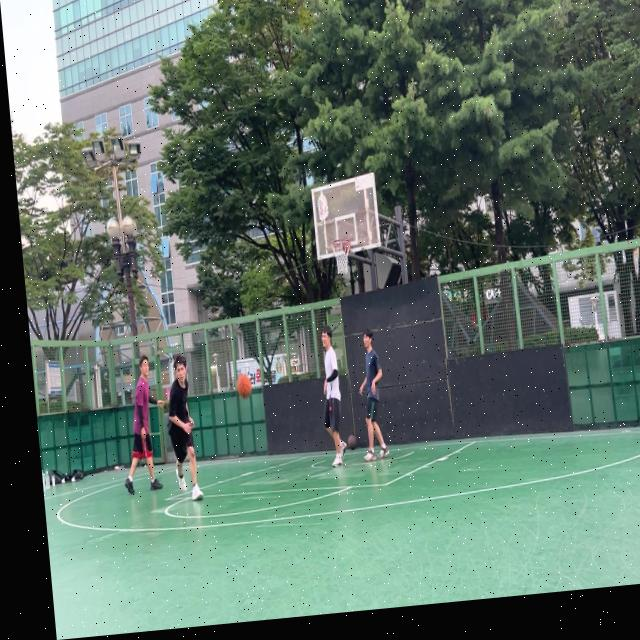basketball: (236, 373, 253, 399), (347, 434, 358, 451)
hoop: (330, 237, 353, 276)
